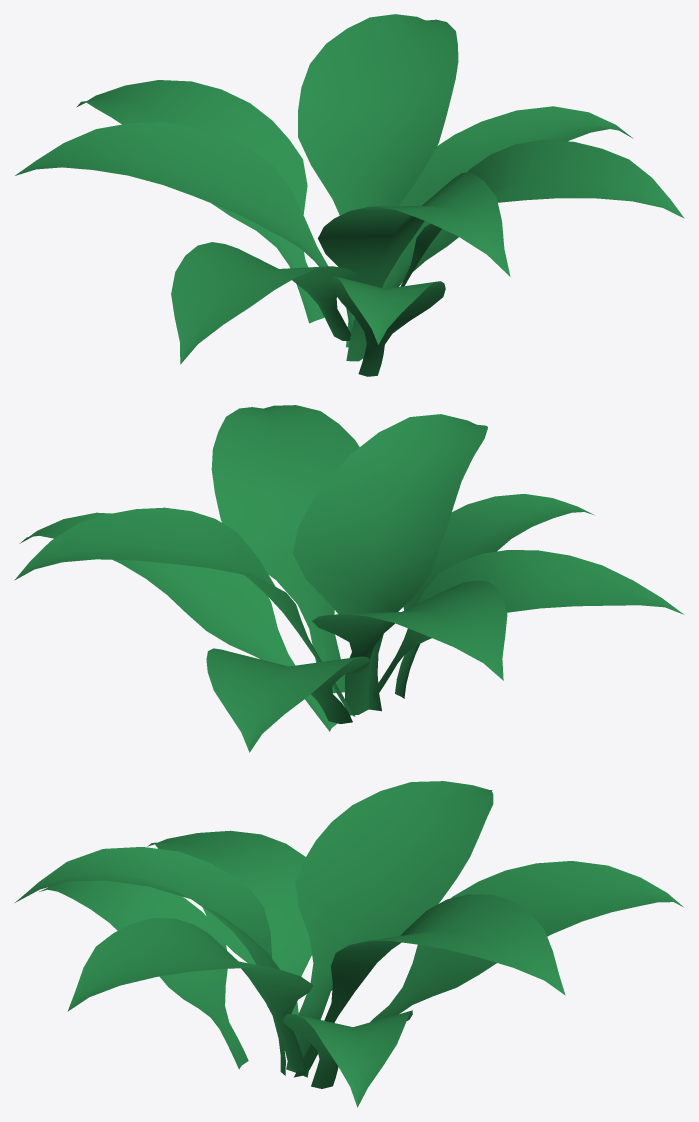
The model's file is plant_bush_H.fbx.
3 renders of one model, top to bottom at view 1: azimuth 30°, elevation 25°; view 2: azimuth 150°, elevation 25°; view 3: azimuth 270°, elevation 25°, orthographic.
Parts seen in each view (by area): view 1: plant_bush_H_leaf_A, plant_bush_H_leaf_B, plant_bush_H_leaf_C, plant_bush_H_leaf_D, plant_bush_H_leaf_G, plant_bush_H_leaf_E, plant_bush_H_leaf_H, plant_bush_H_leaf_F; view 2: plant_bush_H_leaf_C, plant_bush_H_leaf_G, plant_bush_H_leaf_A, plant_bush_H_leaf_E, plant_bush_H_leaf_B, plant_bush_H_leaf_H, plant_bush_H_leaf_D, plant_bush_H_leaf_F; view 3: plant_bush_H_leaf_B, plant_bush_H_leaf_D, plant_bush_H_leaf_A, plant_bush_H_leaf_G, plant_bush_H_leaf_C, plant_bush_H_leaf_E, plant_bush_H_leaf_F, plant_bush_H_leaf_H.
Boxes of the visible parts, box(x1,y1,x2,y2) form: plant_bush_H_leaf_A: box(298, 14, 458, 347); plant_bush_H_leaf_B: box(15, 122, 353, 333); plant_bush_H_leaf_C: box(318, 172, 510, 361); plant_bush_H_leaf_D: box(76, 80, 324, 323); plant_bush_H_leaf_G: box(400, 139, 684, 286); plant_bush_H_leaf_E: box(171, 242, 356, 364); plant_bush_H_leaf_H: box(382, 106, 633, 288); plant_bush_H_leaf_F: box(331, 276, 445, 376); plant_bush_H_leaf_C: box(293, 414, 487, 711); plant_bush_H_leaf_G: box(211, 405, 359, 693); plant_bush_H_leaf_A: box(14, 507, 355, 716); plant_bush_H_leaf_E: box(372, 550, 683, 698); plant_bush_H_leaf_B: box(312, 580, 507, 715); plant_bush_H_leaf_H: box(19, 512, 337, 731); plant_bush_H_leaf_D: box(206, 648, 370, 752); plant_bush_H_leaf_F: box(395, 494, 594, 698); plant_bush_H_leaf_B: box(286, 781, 493, 1077); plant_bush_H_leaf_D: box(370, 861, 683, 1022); plant_bush_H_leaf_A: box(293, 894, 565, 1077); plant_bush_H_leaf_G: box(67, 918, 313, 1072); plant_bush_H_leaf_C: box(15, 847, 285, 1075); plant_bush_H_leaf_E: box(147, 830, 311, 1050); plant_bush_H_leaf_F: box(39, 880, 248, 1069); plant_bush_H_leaf_H: box(283, 1010, 412, 1107).
Size of the model in its own units: 33.47 by 12.79 by 34.82.
